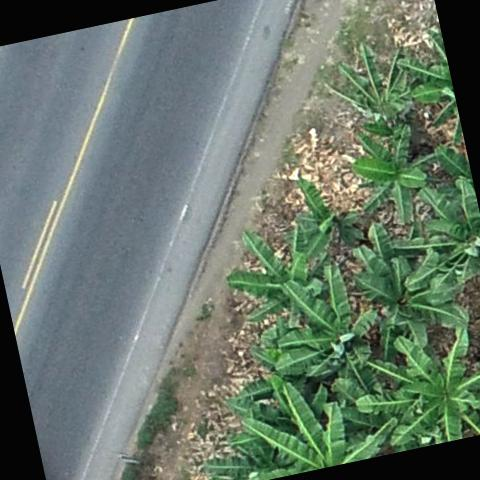Banana-plant: (340, 212, 462, 356), (228, 376, 391, 480), (362, 315, 480, 454), (264, 264, 386, 393), (224, 222, 332, 328), (317, 35, 428, 132), (401, 178, 480, 296), (344, 120, 432, 223), (276, 162, 362, 260)
